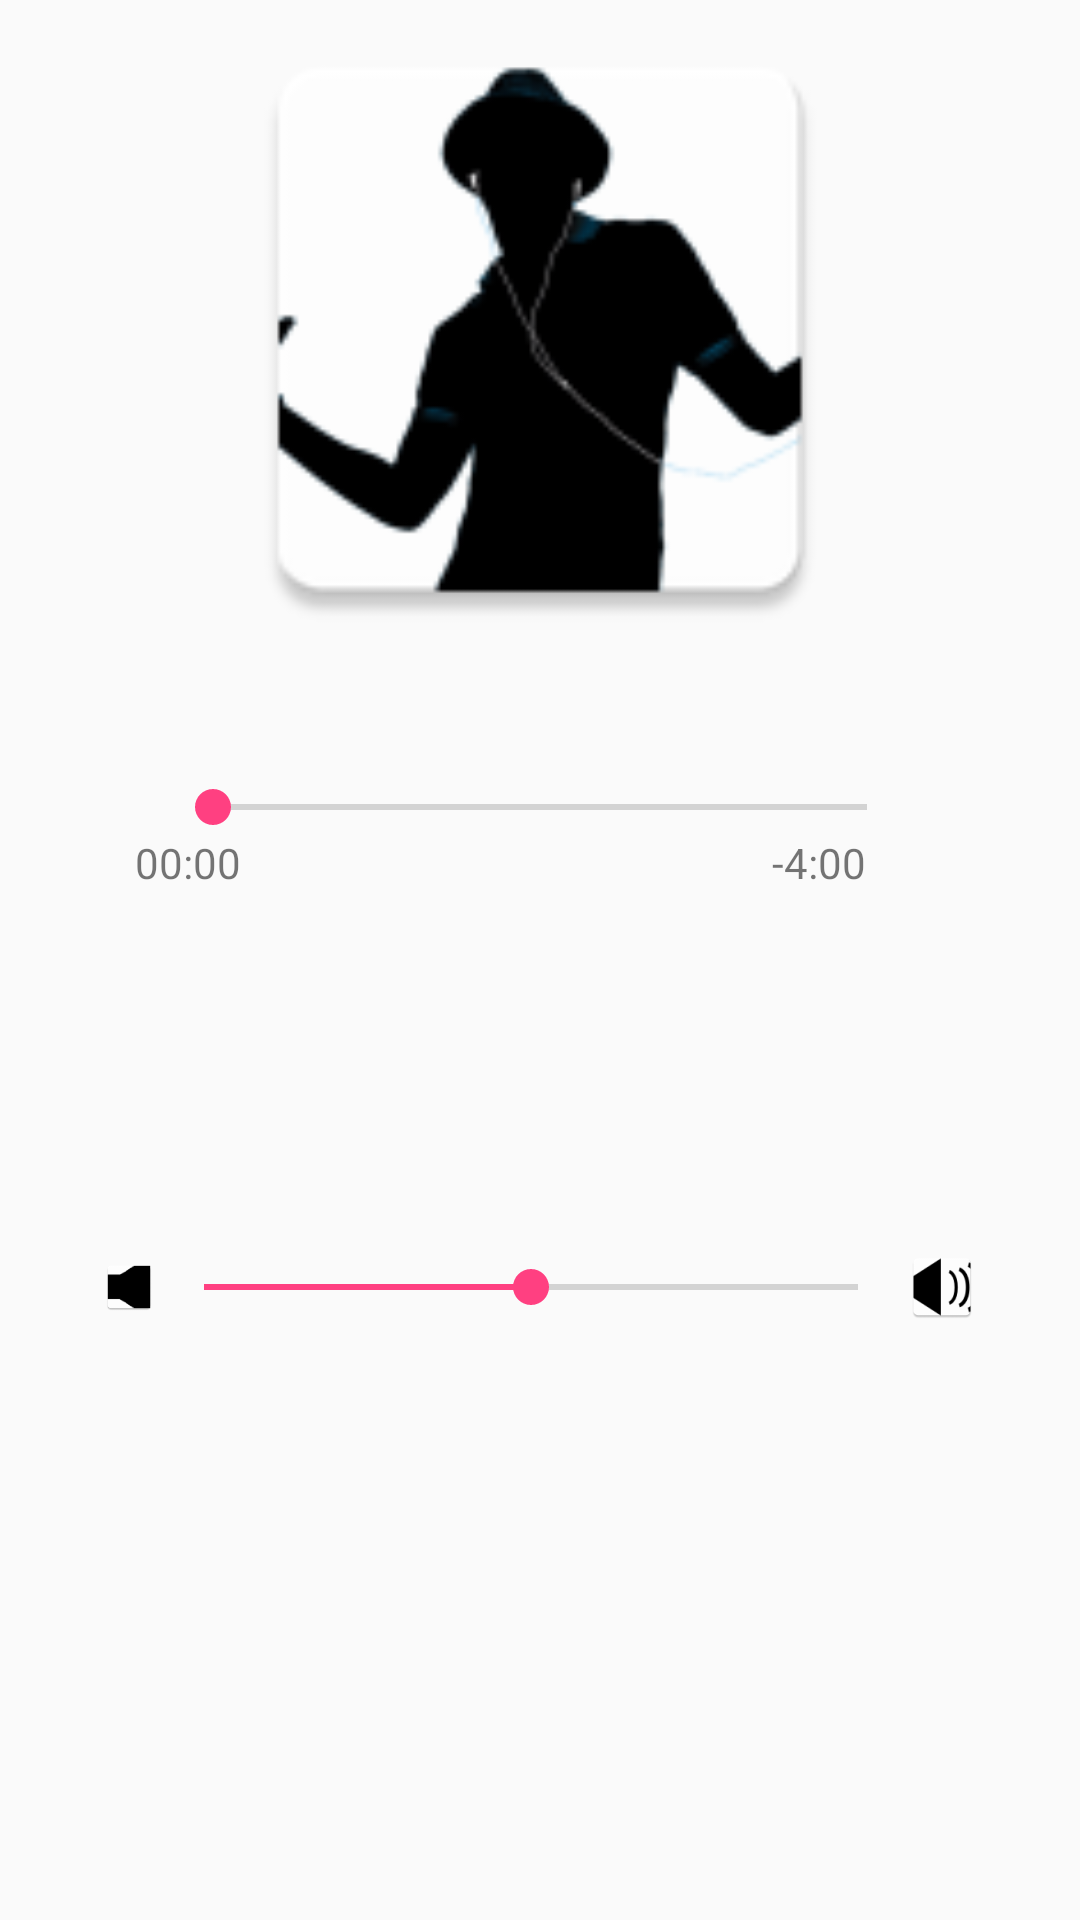

Where to tap for icons on this 1080w x 1920h app screen, as (x,y):
decrease volume: (129,1287)
increase volume: (942,1287)
